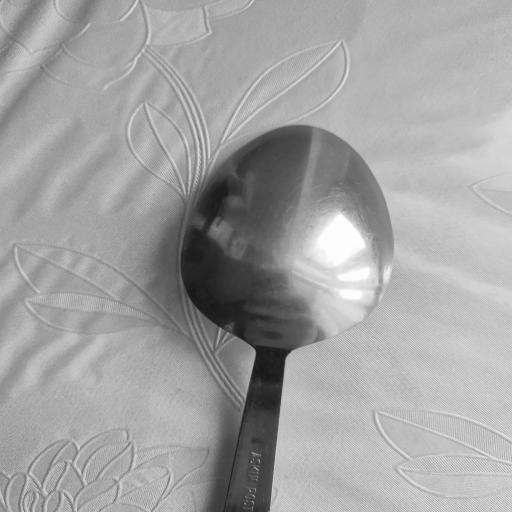spoon: (181, 125, 388, 512)
